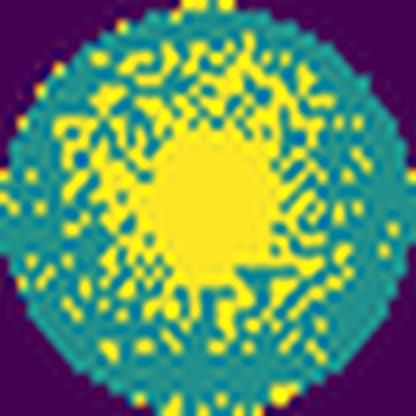Center: (61, 35, 352, 352)
